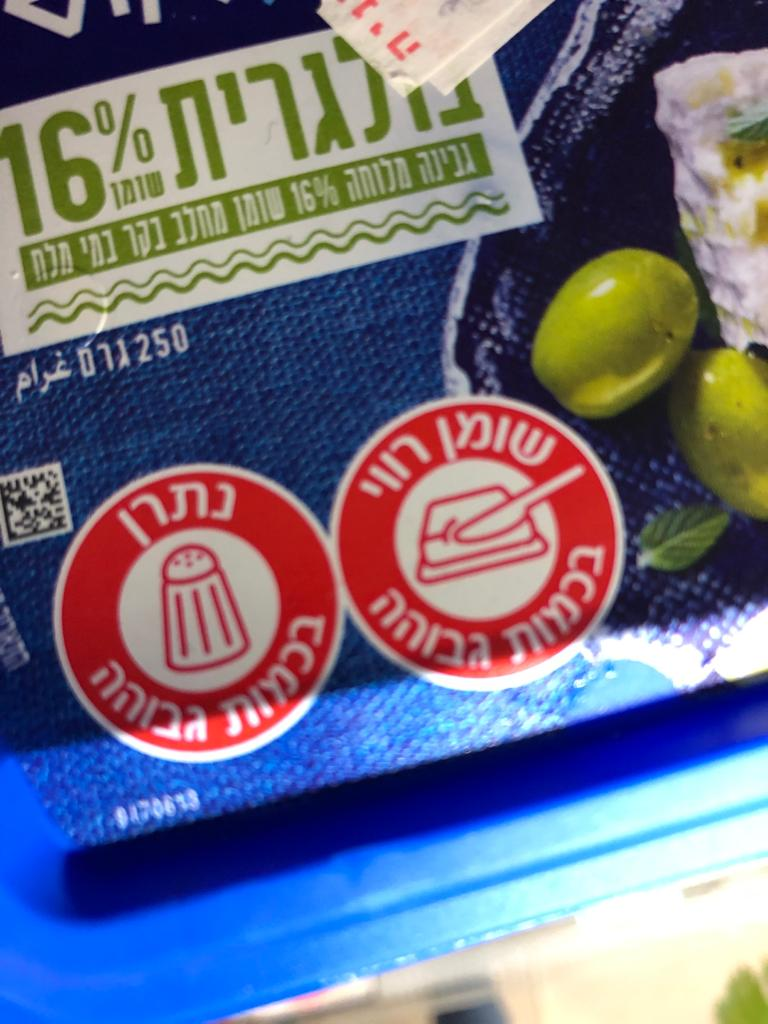fat: (329, 396, 626, 693)
salt: (51, 462, 341, 765)
